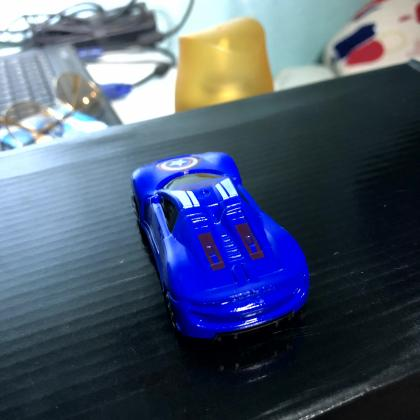Car: (128, 147, 317, 346)
